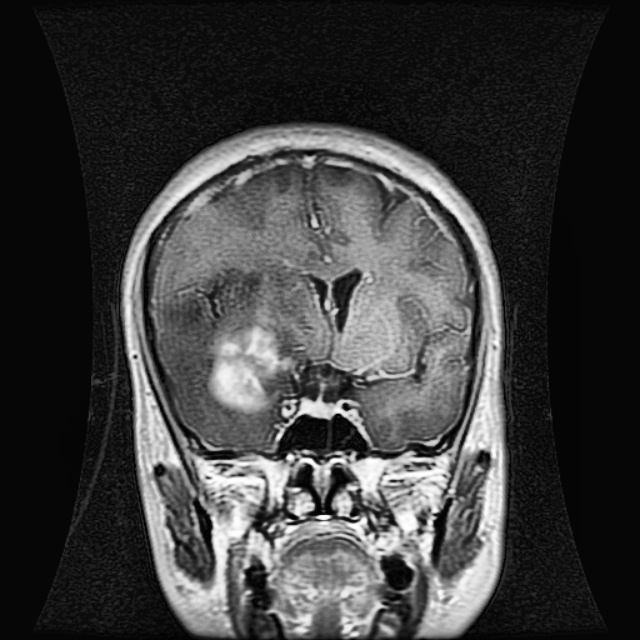Meningioma: (203, 313, 299, 414)
